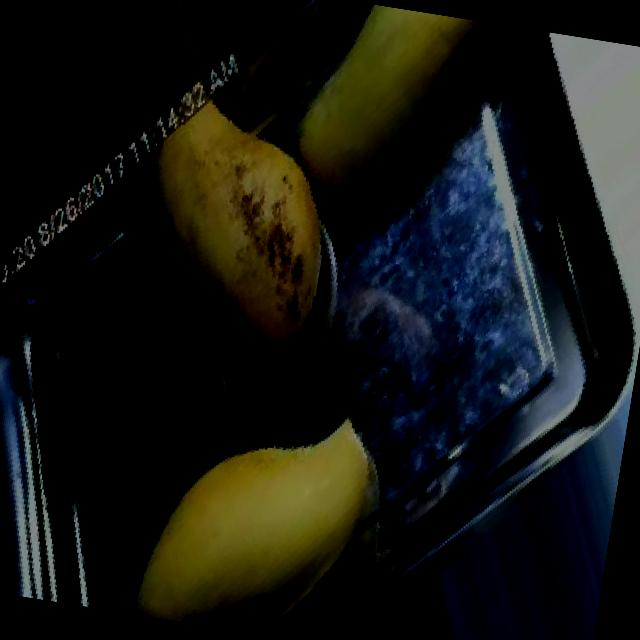Mango: (131, 388, 391, 640), (124, 90, 345, 364), (288, 0, 508, 215)
